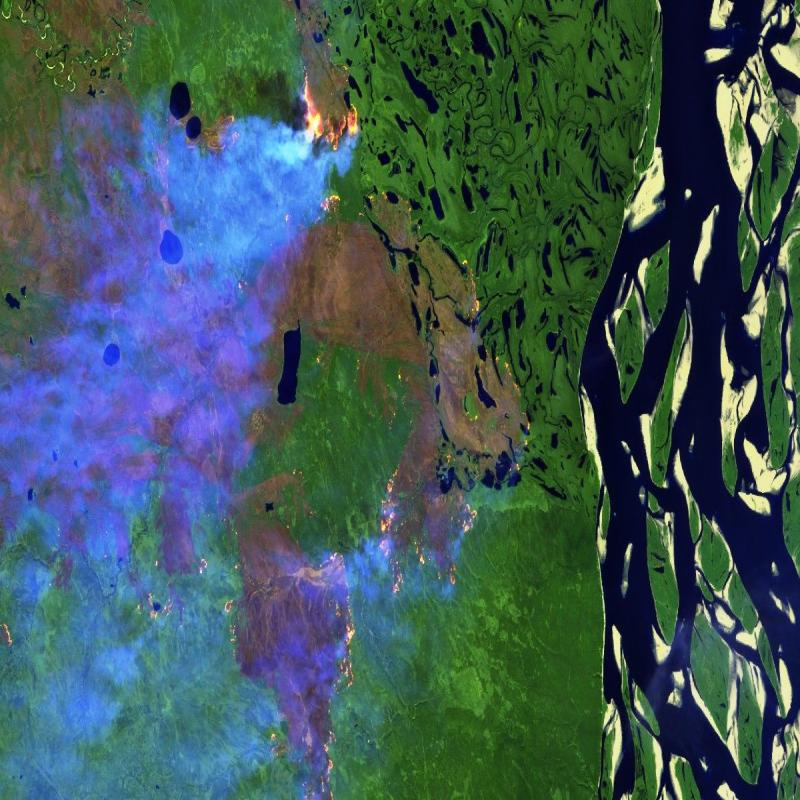fire: (152, 51, 368, 233), (221, 538, 365, 800), (377, 450, 484, 598), (118, 531, 211, 635)
